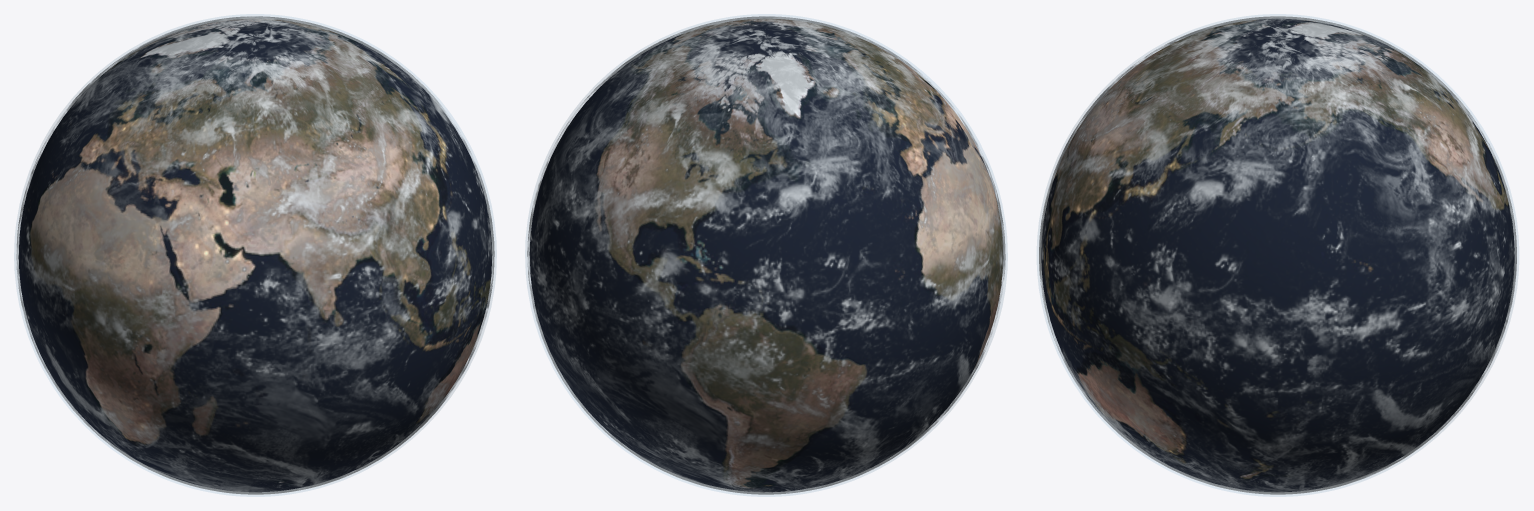
The model's file is earthT.glb.
3 views of the same model, side by side, from view 1: azimuth 30°, elevation 25°; view 2: azimuth 150°, elevation 25°; view 3: azimuth 270°, elevation 25° (orthographic).
Visible parts, largest first — view 1: Earth, Clouds, Atmosphere; view 2: Earth, Clouds, Atmosphere; view 3: Earth, Clouds, Atmosphere.
Boxes of the visible parts, bbox=[...] form: Earth: bbox=[18, 19, 491, 492]; Clouds: bbox=[16, 16, 494, 494]; Atmosphere: bbox=[14, 14, 496, 496]; Earth: bbox=[529, 19, 1002, 492]; Clouds: bbox=[527, 16, 1005, 494]; Atmosphere: bbox=[525, 14, 1007, 496]; Earth: bbox=[1041, 18, 1514, 491]; Clouds: bbox=[1039, 16, 1516, 494]; Atmosphere: bbox=[1037, 14, 1518, 496].
Bounding box in the file's own units: 2.04 × 2.04 × 2.04.
Materials: 3 (2 with a texture image).
